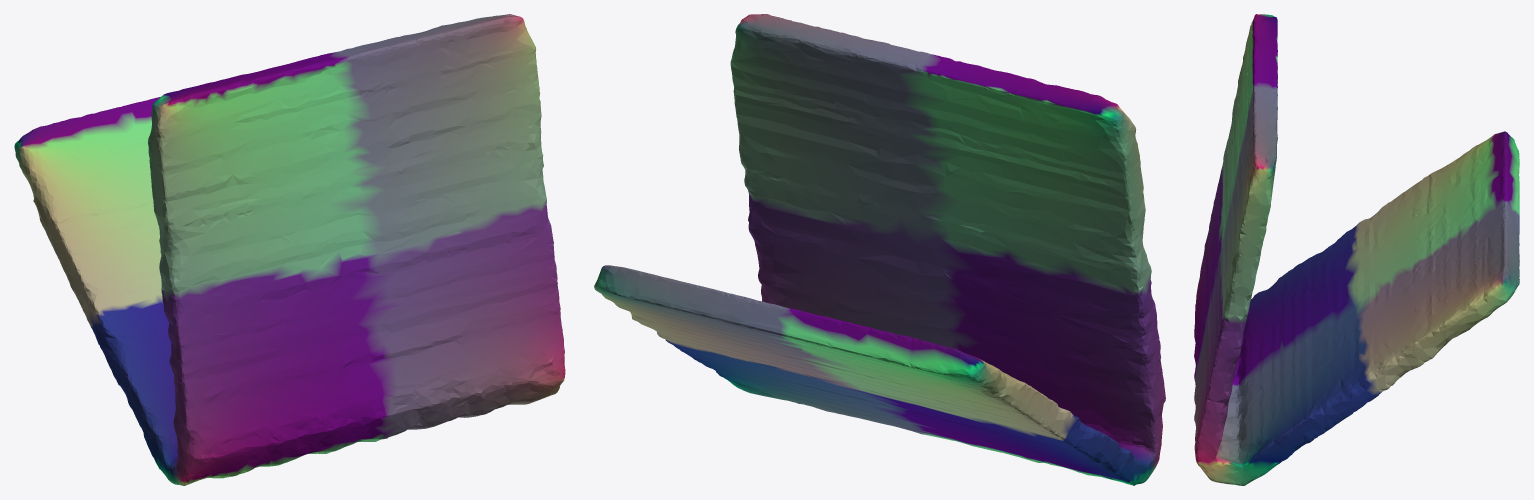
The model's file is paper-15.off.obj.
The picture shows the model from 3 angles, left to right: view 1: azimuth 30°, elevation 25°; view 2: azimuth 150°, elevation 25°; view 3: azimuth 270°, elevation 25°; orthographic projection. The views are drawn at different scales.
Size of the model in its own units: 1.19 by 1.12 by 1.02.
